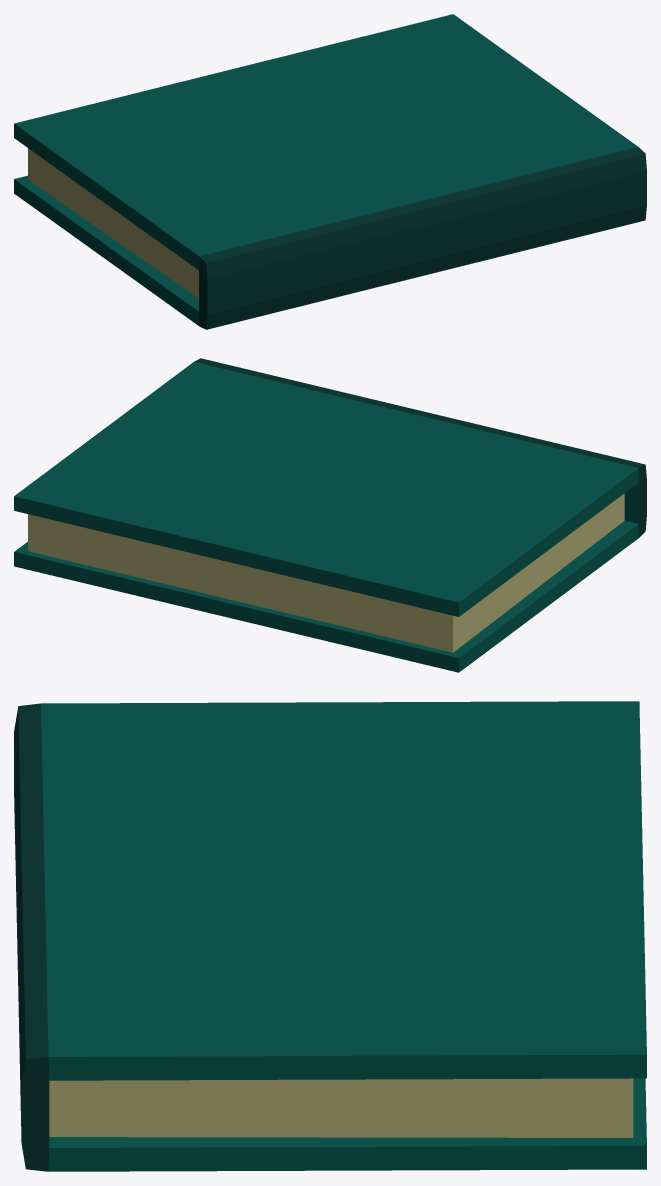
3 views of the same model, one above another, from view 1: azimuth 30°, elevation 25°; view 2: azimuth 150°, elevation 25°; view 3: azimuth 270°, elevation 25° (orthographic). The views are drawn at different scales.
Visible parts, largest first — view 1: bp5; view 2: bp5; view 3: bp5.
Boxes of the visible parts, x1,y1,x2,y2 form: bp5: [14, 14, 646, 329]; bp5: [14, 358, 646, 672]; bp5: [14, 701, 646, 1171].
Size of the model in its own units: 91.37 by 13.74 by 68.68.
